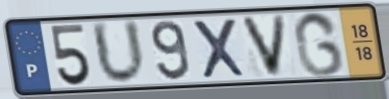5: (47, 22, 92, 88)
9: (149, 19, 192, 83)
G: (291, 9, 347, 79)
U: (88, 18, 149, 87)
V: (238, 13, 290, 80)
X: (189, 16, 249, 81)
